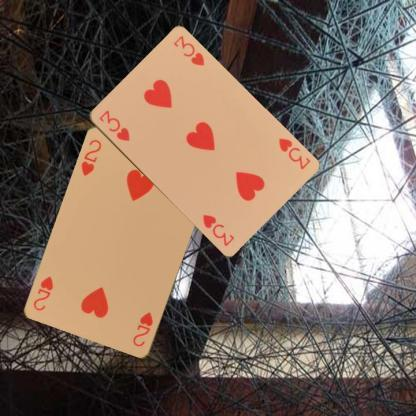2h: (78, 137, 103, 178), (130, 310, 155, 348)
3h: (276, 135, 312, 171), (96, 107, 131, 142)
